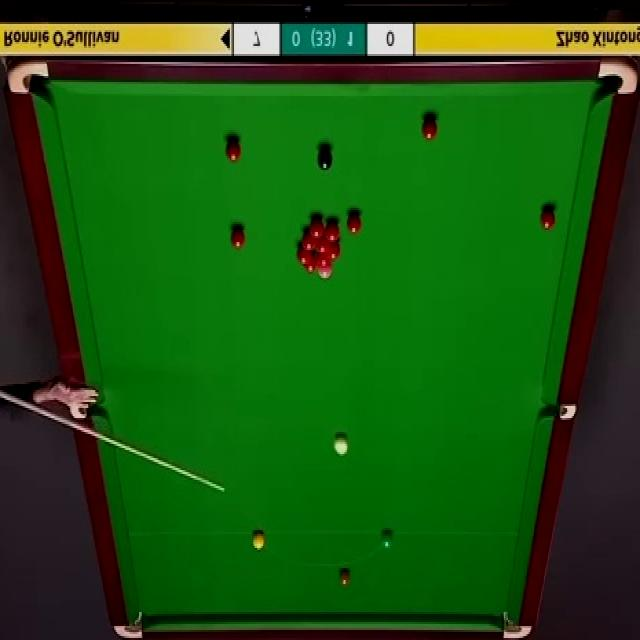pocket: (597, 57, 637, 98), (6, 62, 51, 98), (111, 606, 145, 640), (499, 608, 531, 640), (541, 398, 576, 418), (68, 404, 104, 418)
